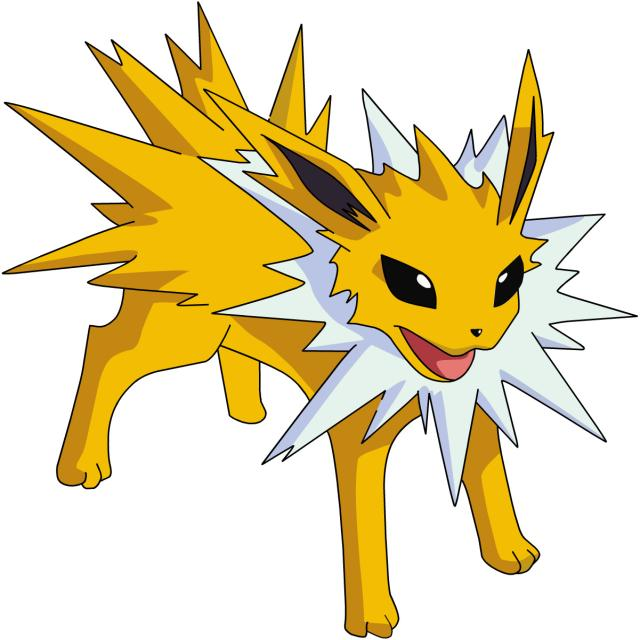Jolteon: (63, 87, 588, 558)
